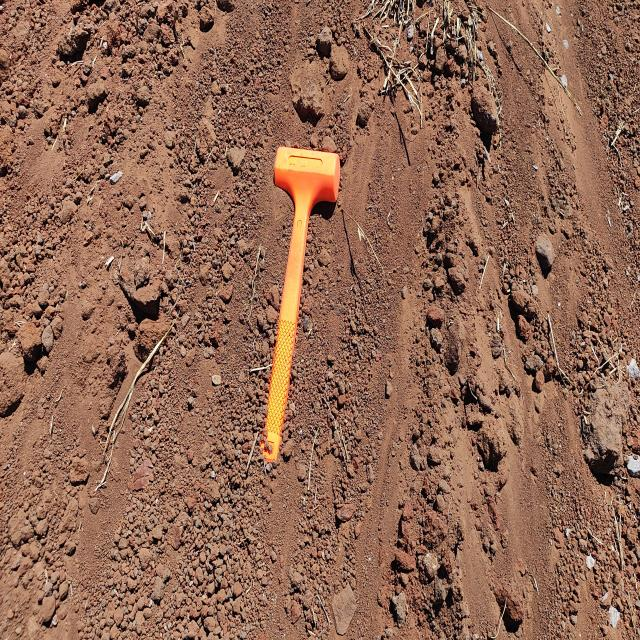Orange_hammer: (259, 144, 341, 472)
